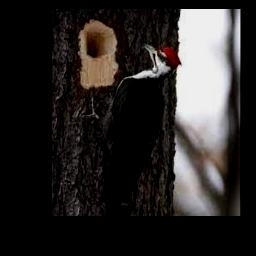Woodpecker: (83, 43, 181, 215)
